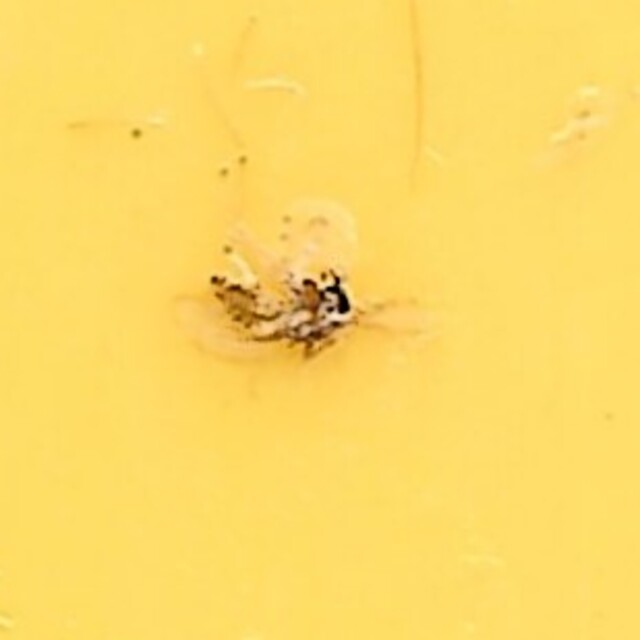Nematocera: (207, 247, 433, 393)
